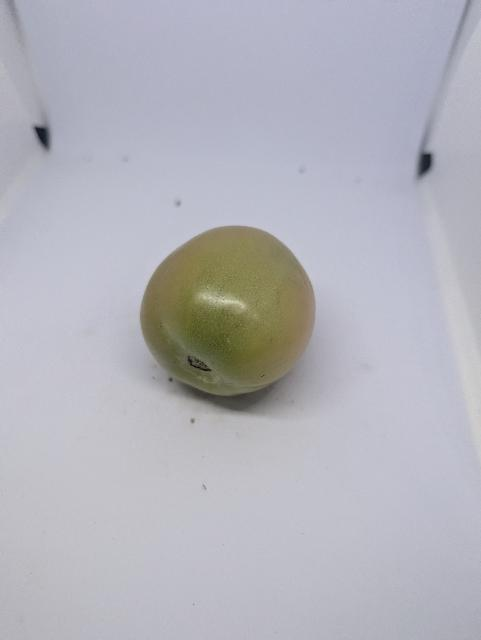breaker: (136, 225, 344, 402)
